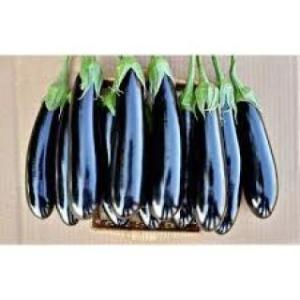eggplant: (148, 60, 184, 220), (189, 80, 225, 228), (236, 85, 276, 217), (24, 76, 60, 218), (113, 57, 143, 216), (72, 58, 100, 220), (214, 82, 242, 232)
